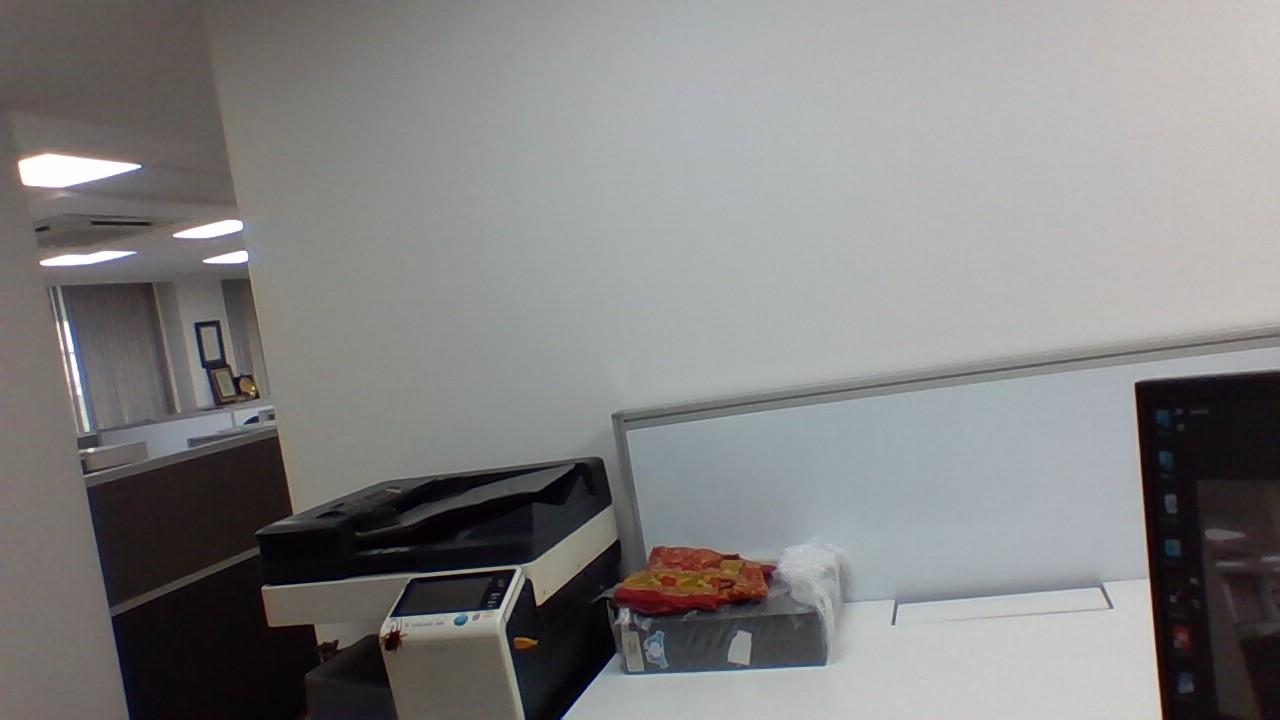cockroach: (366, 627, 433, 662)
